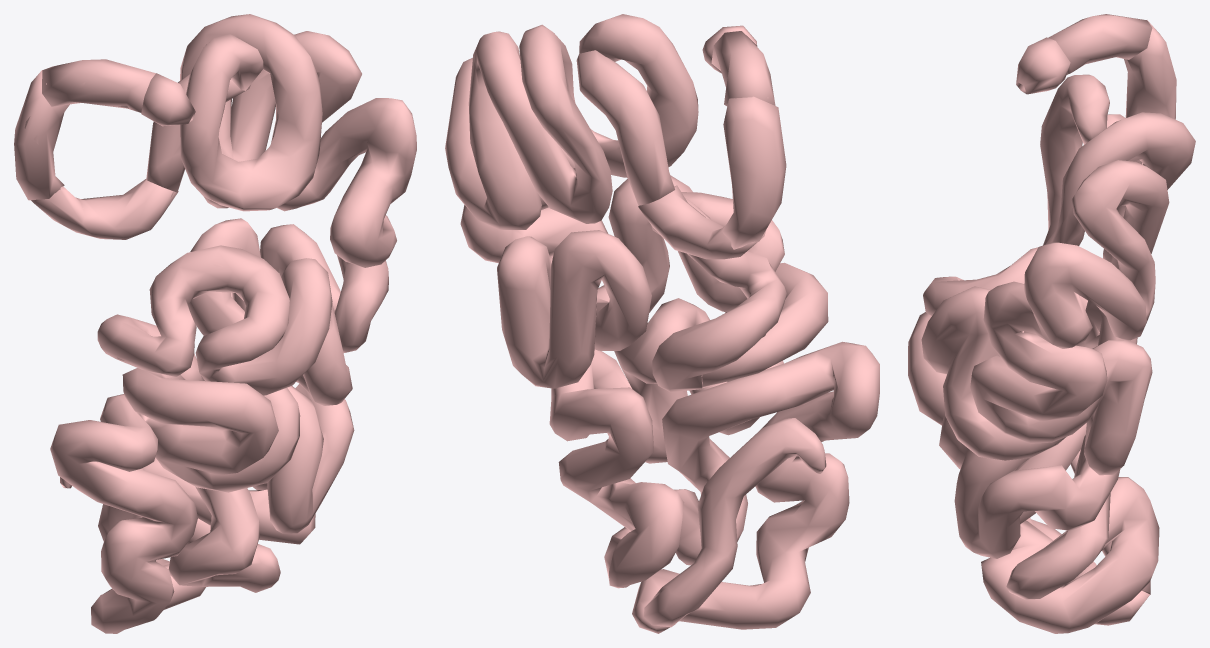
File: 3d-vh-m-small-intestine_lod_20.glb
3 views of the same model, side by side, from view 1: azimuth 30°, elevation 25°; view 2: azimuth 150°, elevation 25°; view 3: azimuth 270°, elevation 25° (orthographic). The views are drawn at different scales.
Visible parts, largest first — view 1: VH_M_jejunum, VH_M_ileum, VH_M_duodenum_horizonal, VH_M_duodenum_superior, VH_M_duodenum_descending, VH_M_duodenum_ascending, VH_M_duodenal_ampulla, VH_M_ileum_terminal; view 2: VH_M_jejunum, VH_M_ileum, VH_M_ileum_terminal, VH_M_duodenum_descending, VH_M_duodenum_ascending, VH_M_duodenum_horizonal, VH_M_duodenum_superior; view 3: VH_M_jejunum, VH_M_ileum, VH_M_duodenum_superior, VH_M_duodenum_descending, VH_M_duodenal_ampulla.
Boxes of the visible parts, box(x1,y1,x2,y2) form: VH_M_jejunum: box(97, 14, 416, 405); VH_M_ileum: box(50, 368, 354, 633); VH_M_duodenum_horizonal: box(31, 178, 178, 239); VH_M_duodenum_superior: box(42, 59, 155, 112); VH_M_duodenum_descending: box(14, 70, 69, 200); VH_M_duodenum_ascending: box(146, 74, 250, 192); VH_M_duodenal_ampulla: box(141, 73, 195, 126); VH_M_ileum_terminal: box(60, 468, 155, 561); VH_M_jejunum: box(445, 14, 786, 392); VH_M_ileum: box(549, 262, 879, 633); VH_M_ileum_terminal: box(644, 418, 826, 627); VH_M_duodenum_descending: box(722, 96, 786, 249); VH_M_duodenum_ascending: box(576, 50, 674, 205); VH_M_duodenum_horizonal: box(638, 185, 766, 259); VH_M_duodenum_superior: box(711, 31, 775, 106); VH_M_jejunum: box(921, 74, 1195, 475); VH_M_ileum: box(908, 312, 1159, 633); VH_M_duodenum_superior: box(1048, 14, 1152, 74); VH_M_duodenum_descending: box(1124, 20, 1176, 119); VH_M_duodenal_ampulla: box(1016, 37, 1070, 94).
Size of the model in its own units: 0.1886 by 0.2652 by 0.1223.
